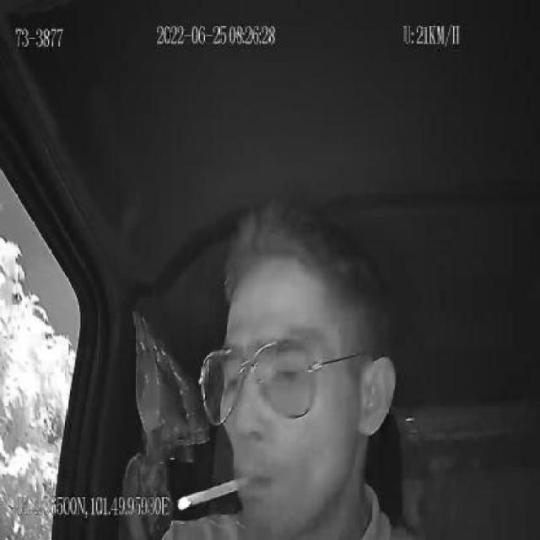smoking: (175, 475, 252, 516)
